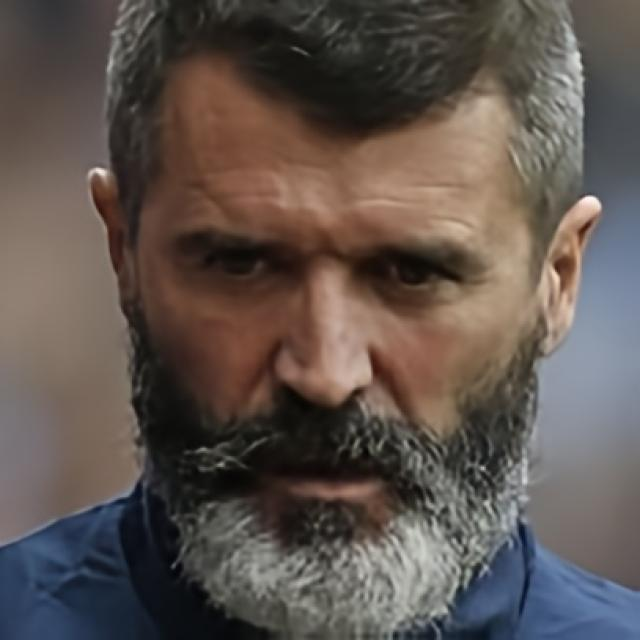anger: (132, 100, 533, 512)
